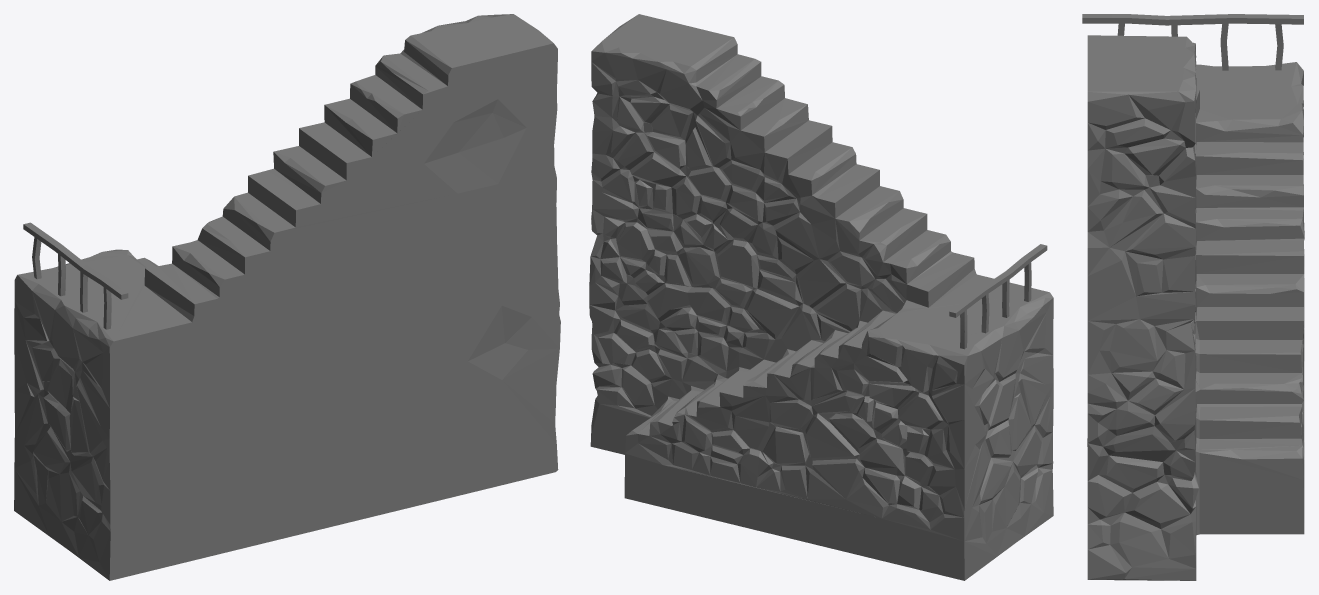
The model's file is castle_battlement_stairs_b.FBX.
The picture shows the model from 3 angles, left to right: view 1: azimuth 30°, elevation 25°; view 2: azimuth 150°, elevation 25°; view 3: azimuth 270°, elevation 25°; orthographic projection. The views are drawn at different scales.
Visible parts, largest first — view 1: castle_battlement_stairs_b; view 2: castle_battlement_stairs_b; view 3: castle_battlement_stairs_b.
Boxes of the visible parts, x1=… form: castle_battlement_stairs_b: x1=14, y1=14, x2=560, y2=580; castle_battlement_stairs_b: x1=589, y1=14, x2=1053, y2=580; castle_battlement_stairs_b: x1=1082, y1=14, x2=1304, y2=580.
Size of the model in its own units: 7.59 by 6.88 by 2.85.
